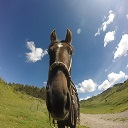caballo: (40, 28, 92, 127)
